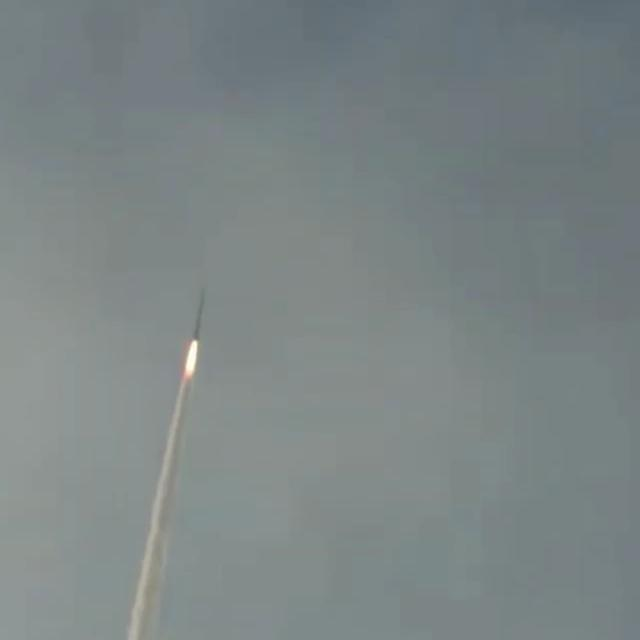rocket: (181, 289, 205, 379)
smoke_trail_with_rocket: (127, 290, 203, 640)
